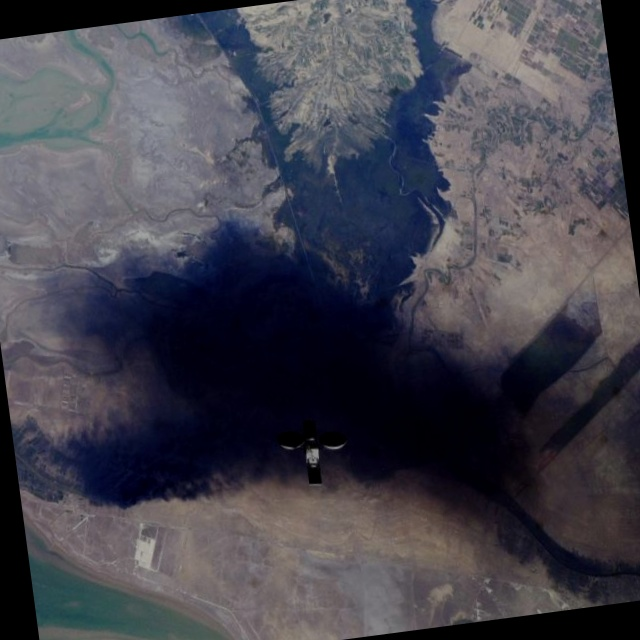satellite: (269, 398, 353, 503)
